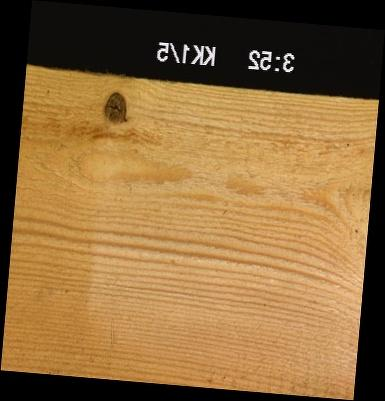dry_knot: (103, 90, 129, 124)
